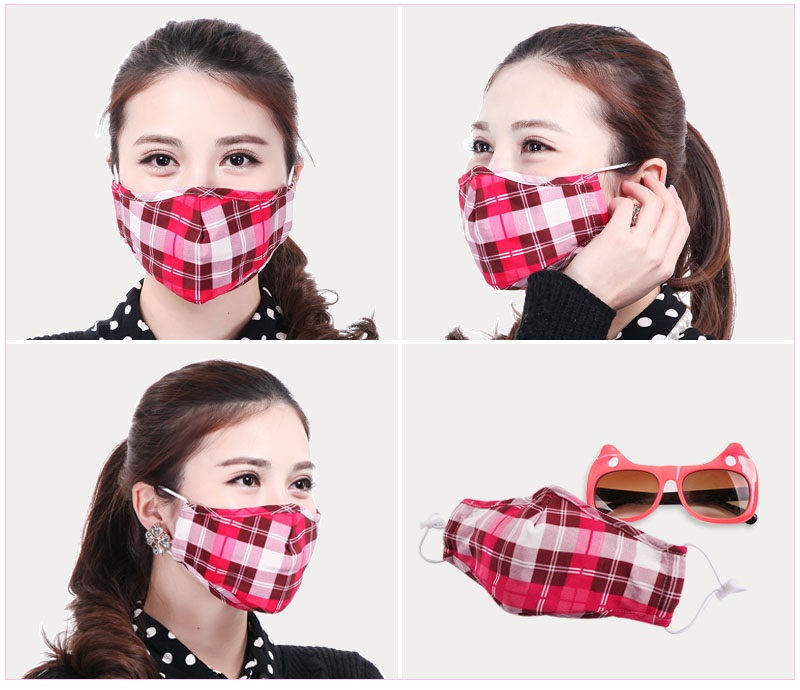face_mask: (115, 70, 287, 279), (464, 62, 618, 275), (172, 411, 320, 594)
